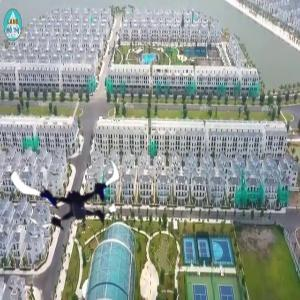drone: (22, 142, 130, 250)
